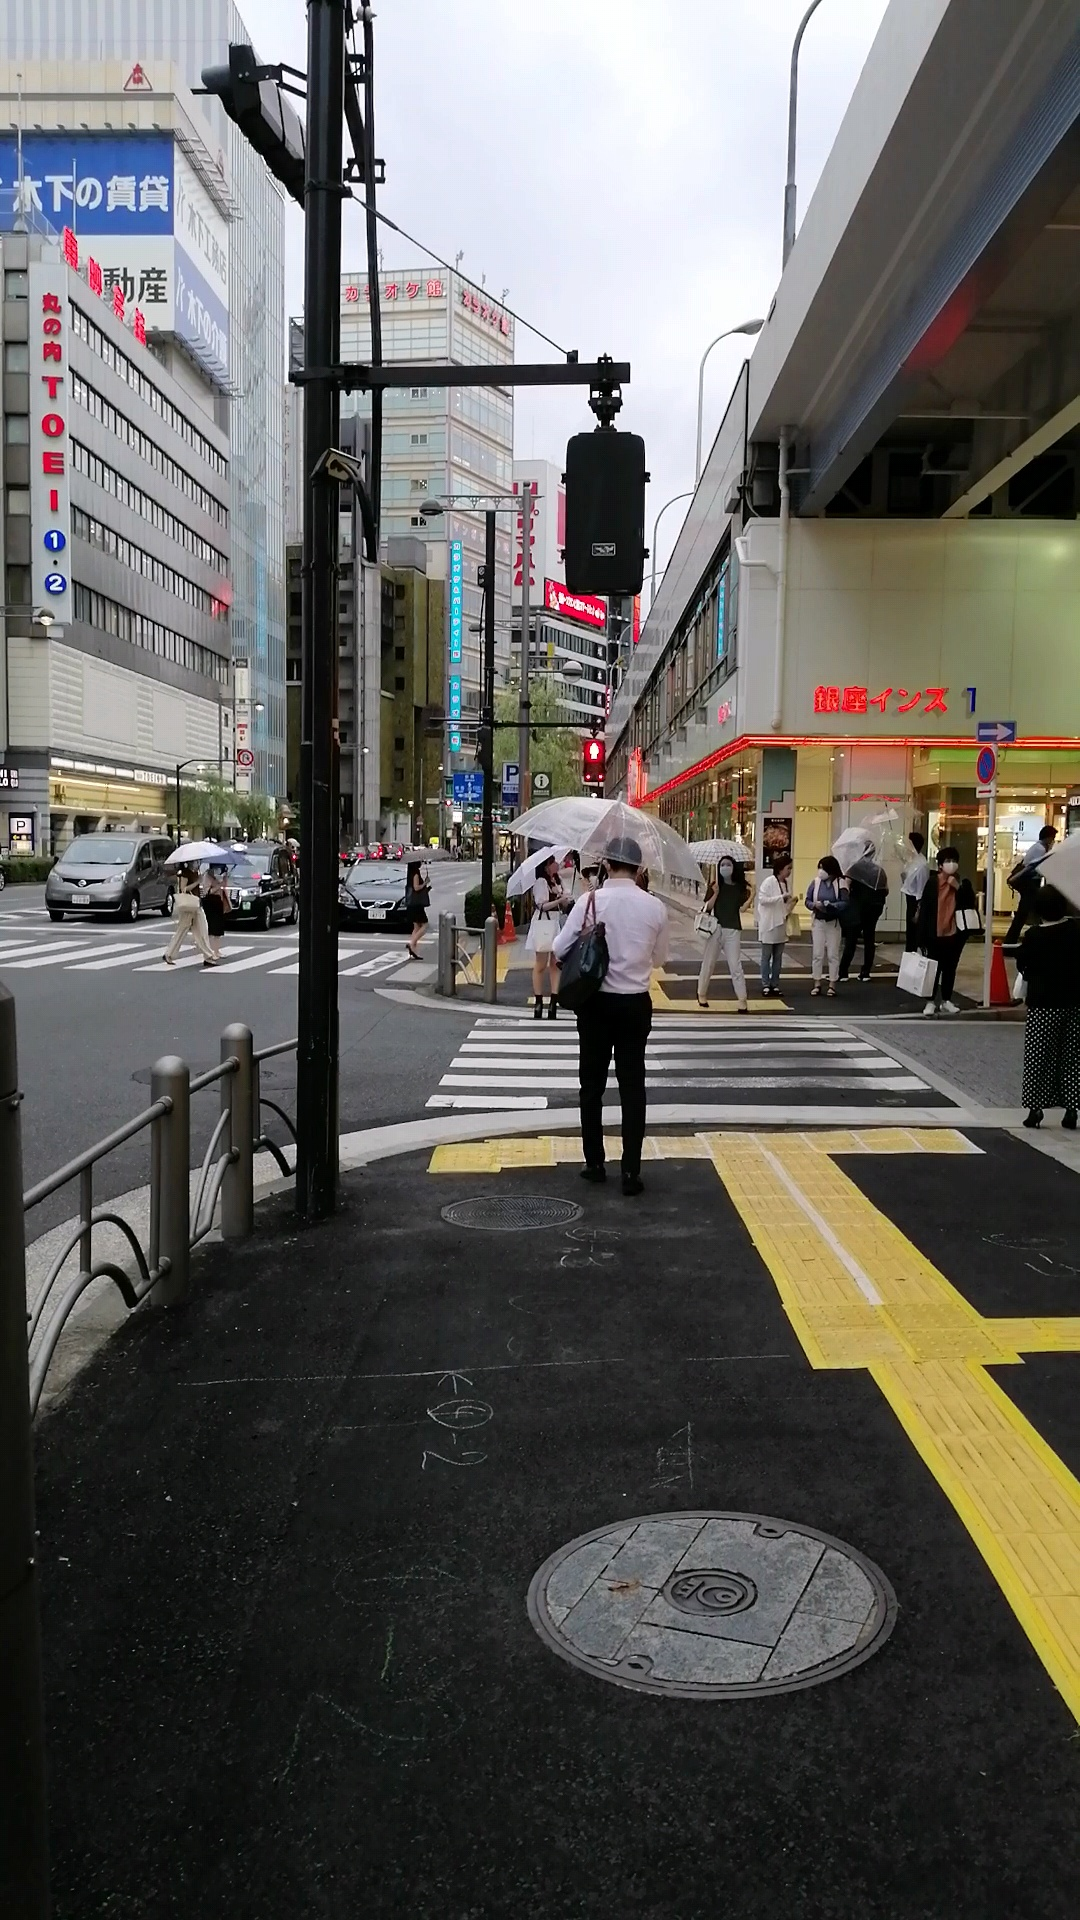red: (579, 738, 607, 785)
